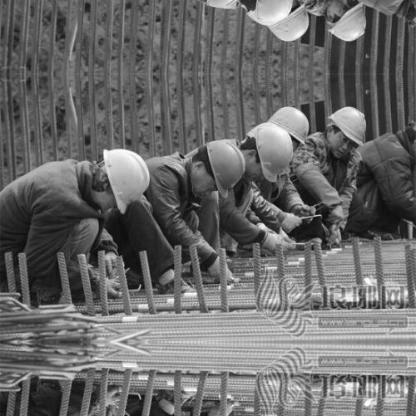helmet: (95, 147, 152, 208), (191, 139, 250, 193), (240, 121, 293, 180), (268, 103, 309, 164), (324, 103, 371, 156), (323, 0, 371, 44), (267, 0, 309, 44), (239, 0, 293, 26)
